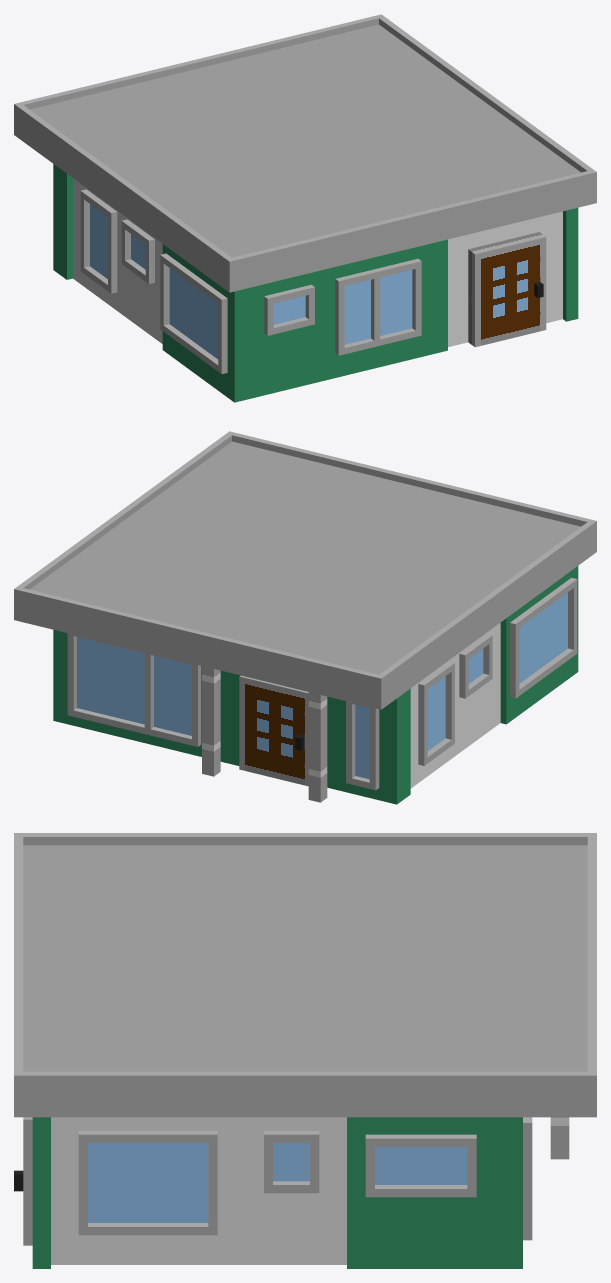
The model's file is obj_house1.dae.
3 renders of one model, top to bottom at view 1: azimuth 30°, elevation 25°; view 2: azimuth 150°, elevation 25°; view 3: azimuth 270°, elevation 25°, orthographic. The views are drawn at different scales.
Parts seen in each view (by area): view 1: obj_house1; view 2: obj_house1; view 3: obj_house1.
Part boxes in pixels (x1,y1,x2,y2): obj_house1: [14, 14, 596, 402]; obj_house1: [14, 431, 596, 804]; obj_house1: [14, 833, 596, 1268].
Size of the model in its own units: 6.2 by 6.3 by 2.4.
Materials: 1 (1 with a texture image).
